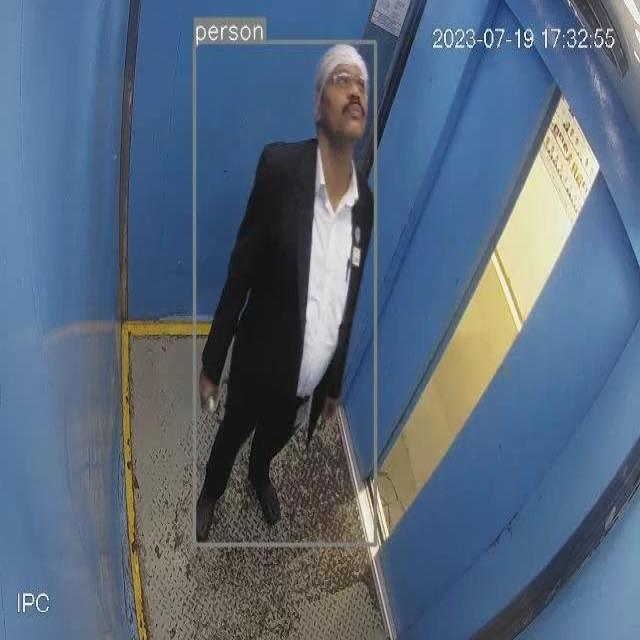person: (196, 41, 376, 544)
